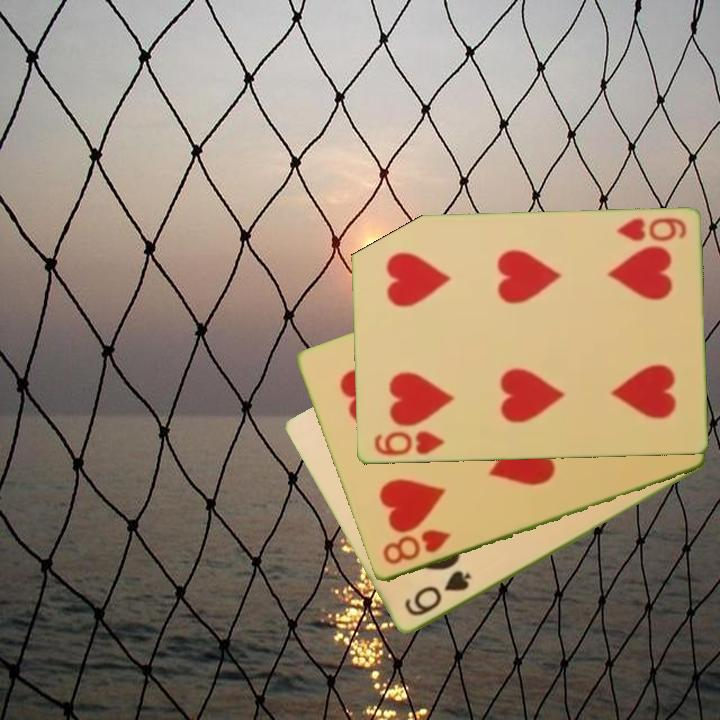6h: (370, 428, 446, 459), (613, 215, 689, 245)
6s: (400, 567, 474, 620)
8h: (378, 526, 453, 568)
